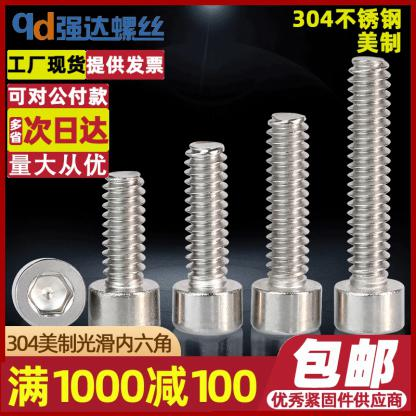FOD: (330, 54, 408, 335), (249, 110, 324, 339), (170, 138, 244, 337), (84, 167, 162, 332), (10, 256, 87, 326)
